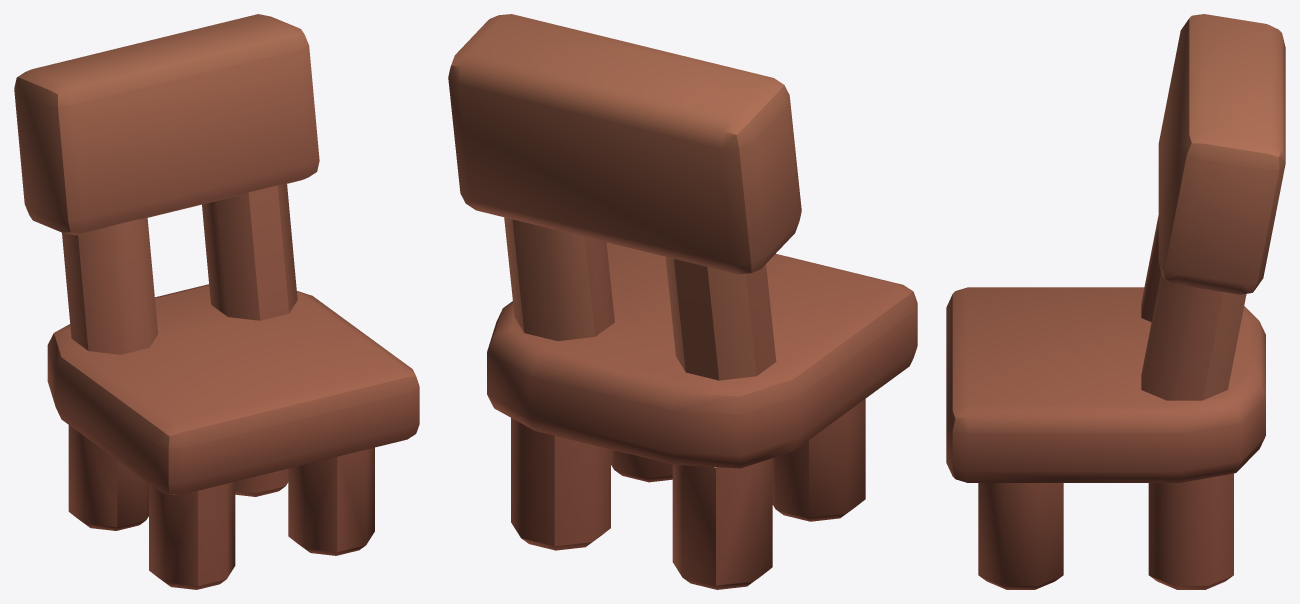
File: Chair.glb
3 views of the same model, side by side, from view 1: azimuth 30°, elevation 25°; view 2: azimuth 150°, elevation 25°; view 3: azimuth 270°, elevation 25° (orthographic). The views are drawn at different scales.
Parts seen in each view (by area): view 1: chair_B; view 2: chair_B; view 3: chair_B.
Part boxes in pixels (<box>): chair_B: <box>14,14,419,589</box>; chair_B: <box>448,14,917,589</box>; chair_B: <box>946,14,1285,589</box>.
Size of the model in its own units: 0.75 by 1.21 by 0.7962.
1 material, 1 textured.
